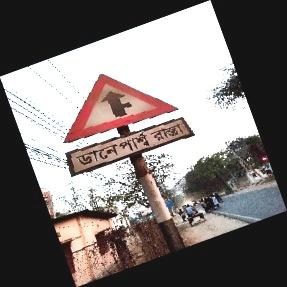Side-road-right: (62, 73, 192, 177)
